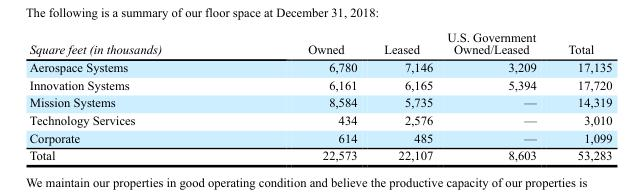table: (28, 29, 611, 162)
table column: (28, 29, 234, 162), (234, 29, 369, 162), (439, 29, 551, 162), (369, 29, 439, 162), (551, 29, 611, 162)
table column header: (28, 29, 611, 57)
table row: (28, 29, 611, 57), (28, 57, 611, 75), (28, 75, 611, 93), (28, 110, 611, 128), (28, 128, 611, 146), (28, 93, 611, 110), (28, 146, 611, 162)
